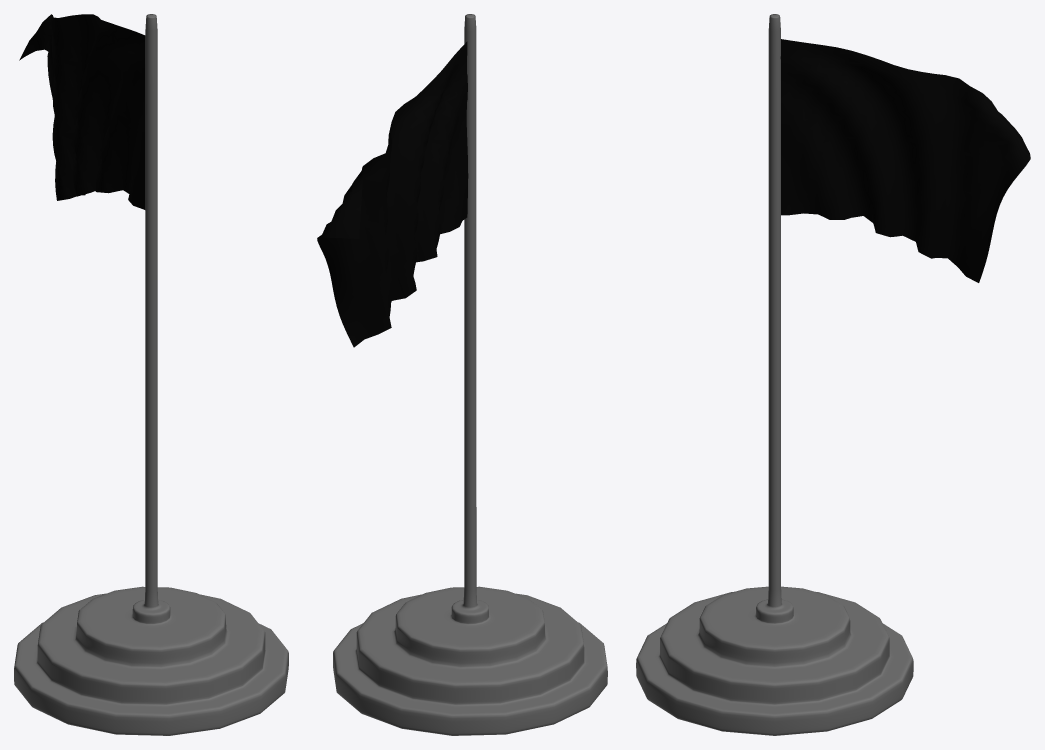
3 renders of one model, left to right at view 1: azimuth 30°, elevation 25°; view 2: azimuth 150°, elevation 25°; view 3: azimuth 270°, elevation 25°, orthographic.
Visible parts, largest first — view 1: Flag_Pole, Object_7; view 2: Flag_Pole, Object_7; view 3: Flag_Pole, Object_7.
Boxes of the visible parts, <box> form: Flag_Pole: <box>14,14,288,735</box>; Object_7: <box>19,14,145,209</box>; Flag_Pole: <box>333,14,607,735</box>; Object_7: <box>317,41,468,347</box>; Flag_Pole: <box>636,14,913,735</box>; Object_7: <box>780,39,1030,282</box>.
Bounding box in the file's own units: 633 × 1670 × 901.
Materials: 2 (1 with a texture image).
